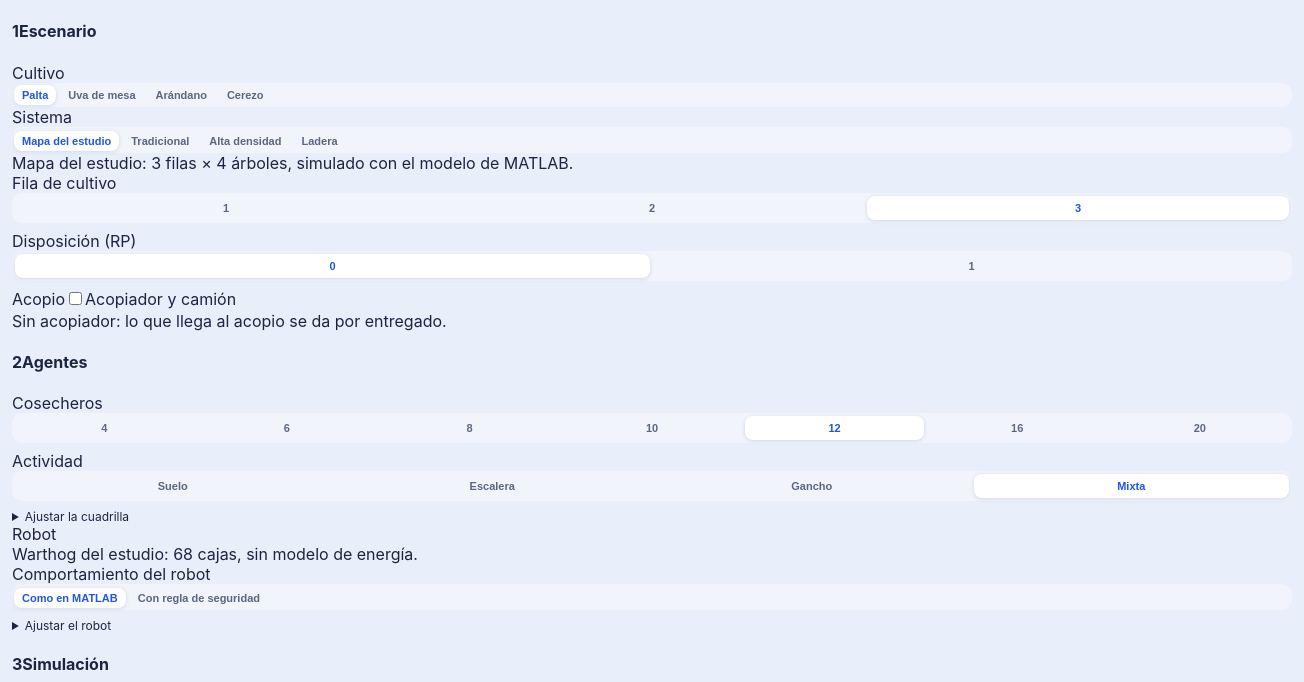
it: SimSteps (panel izquierdo del Simulador) › escenario en dos niveles: cultivo y luego sistema; un cultivo con un solo sistema no muestra el segundo nivel
Expected: the button "Mapa del estudio" is shown, left=14, top=130, right=119, bottom=150
Click the button "Uva de mesa": point(102, 94) left=60, top=84, right=144, bottom=104
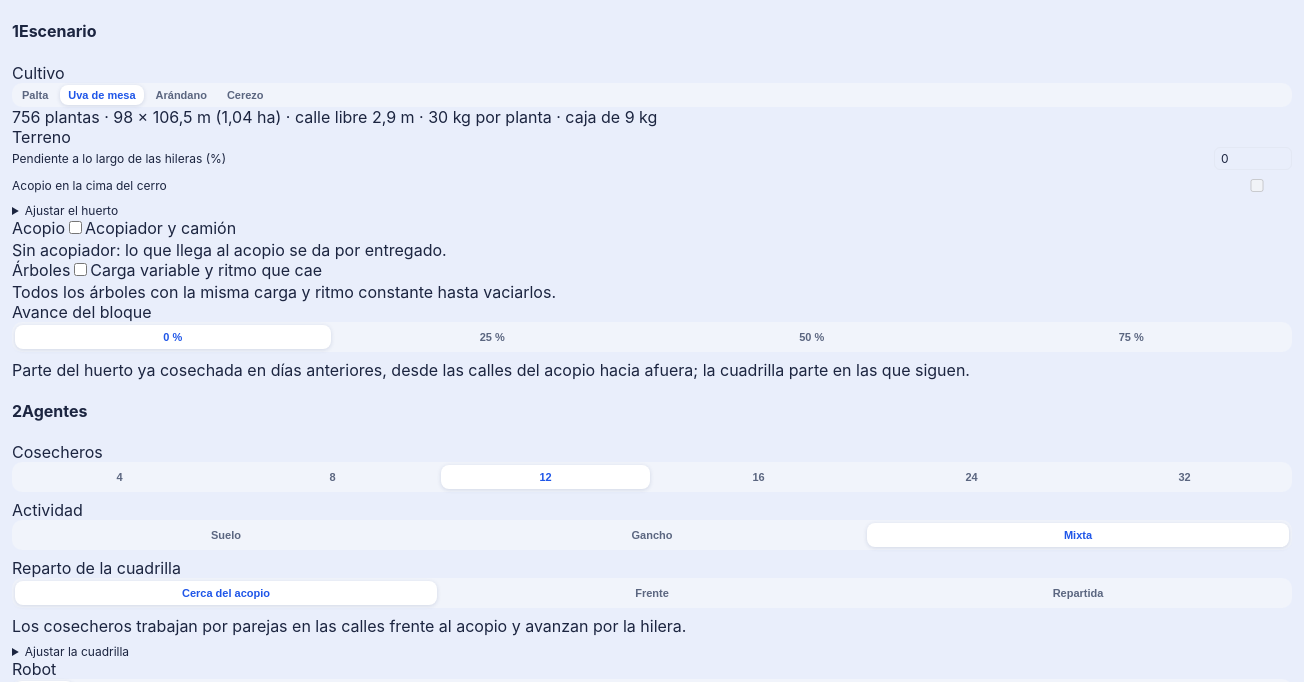
Now the text "Sistema" is gone
Now the text with test id "huerto-info" shows "caja de 9 kg", box left=12, top=106, right=657, bottom=126
Click the button "Palta": point(35, 94) left=14, top=84, right=56, bottom=104
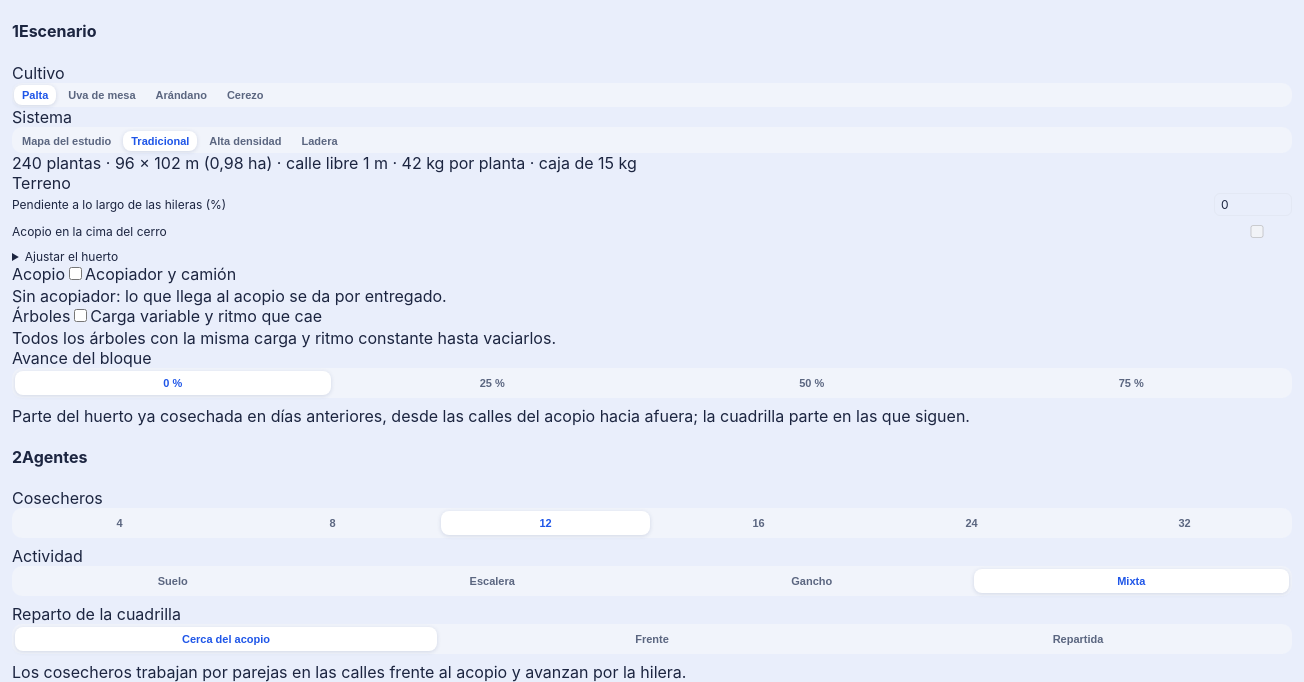
Now the text "Sistema" is shown, box left=12, top=106, right=72, bottom=126
